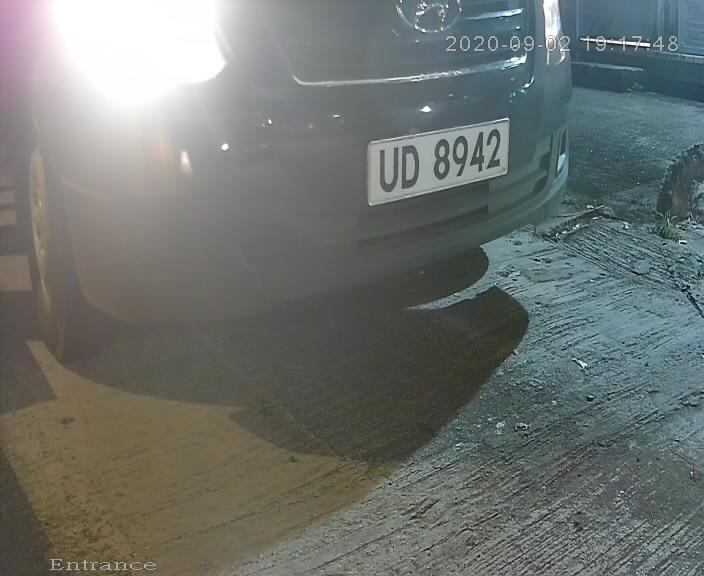License Plate: (356, 111, 516, 209)
